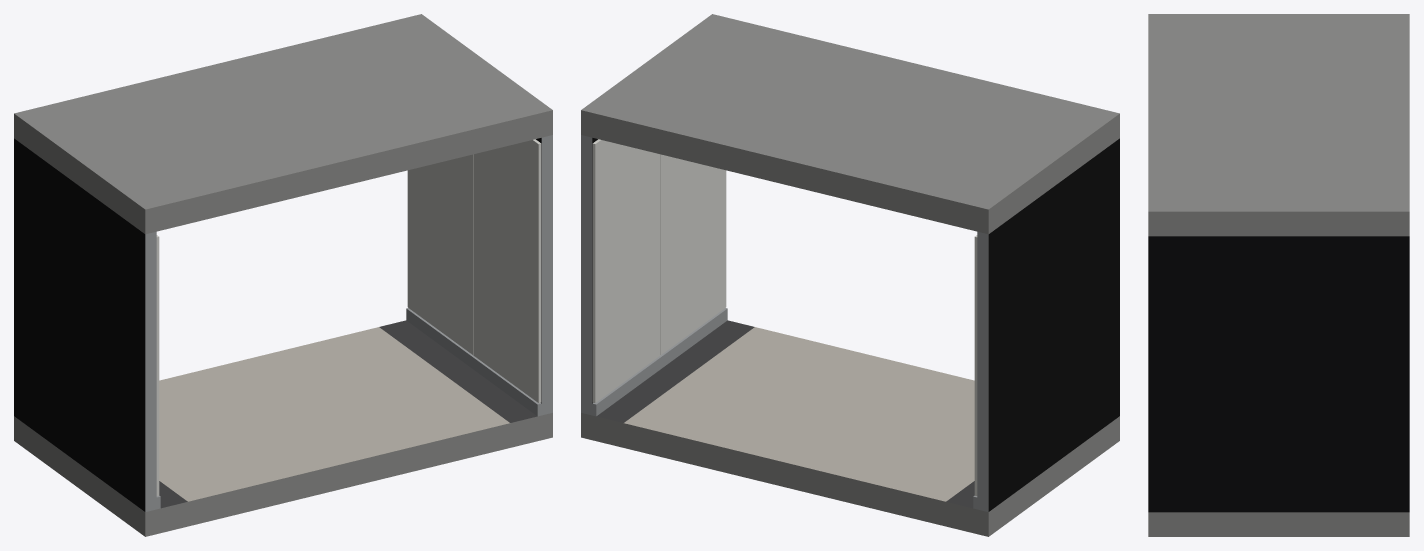
Rendered from gteki_passage_straight_w4_l2p4.glb.
The picture shows the model from 3 angles, left to right: view 1: azimuth 30°, elevation 25°; view 2: azimuth 150°, elevation 25°; view 3: azimuth 270°, elevation 25°; orthographic projection.
Parts seen in each view (by area): view 1: VIS_body; view 2: VIS_body; view 3: VIS_body.
Boxes of the visible parts, x1,y1,x2,y2 form: VIS_body: [14, 14, 552, 536]; VIS_body: [581, 14, 1119, 536]; VIS_body: [1148, 14, 1409, 536].
Size of what is drawn, in the model's own units: 4.3 by 3.3 by 2.4.
Materials: 1 (1 with a texture image).
